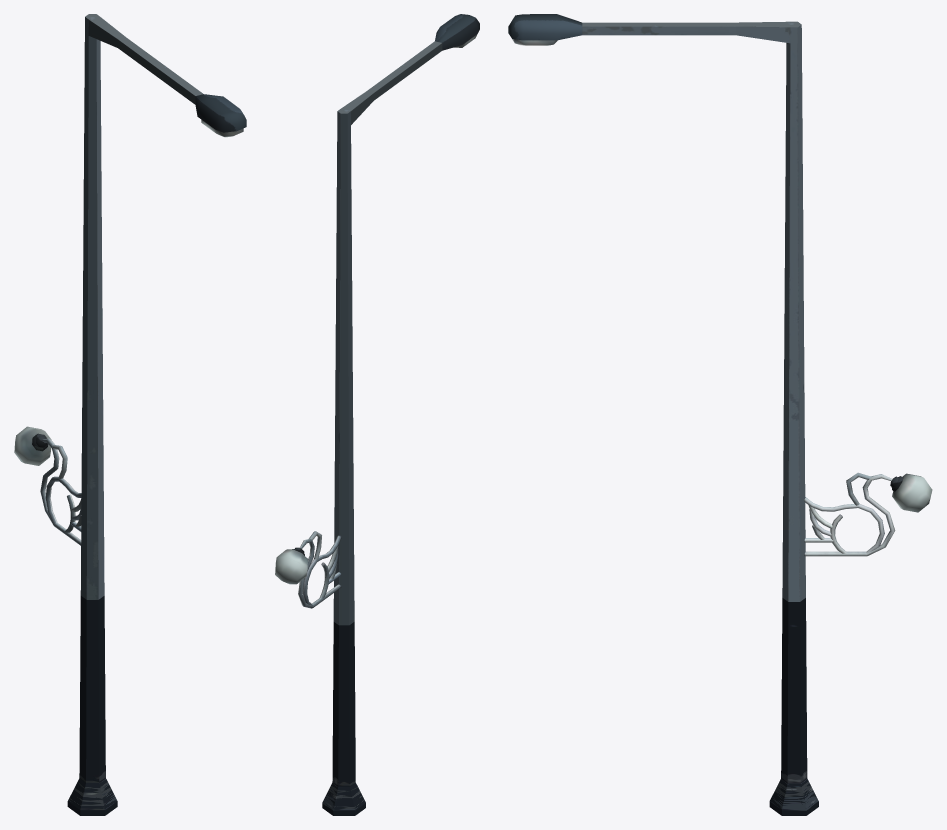
The model's file is streetlamp.fbx.
3 views of the same model, side by side, from view 1: azimuth 30°, elevation 25°; view 2: azimuth 150°, elevation 25°; view 3: azimuth 270°, elevation 25° (orthographic). The views are drawn at different scales.
Parts seen in each view (by area): view 1: streetlamp_001; view 2: streetlamp_001; view 3: streetlamp_001.
Boxes of the visible parts, left/top/right/bottom form: streetlamp_001: left=14, top=14, right=246, bottom=815; streetlamp_001: left=275, top=14, right=479, bottom=815; streetlamp_001: left=508, top=14, right=932, bottom=815.
Bounding box in the file's own units: 19.31 × 192 × 394.
